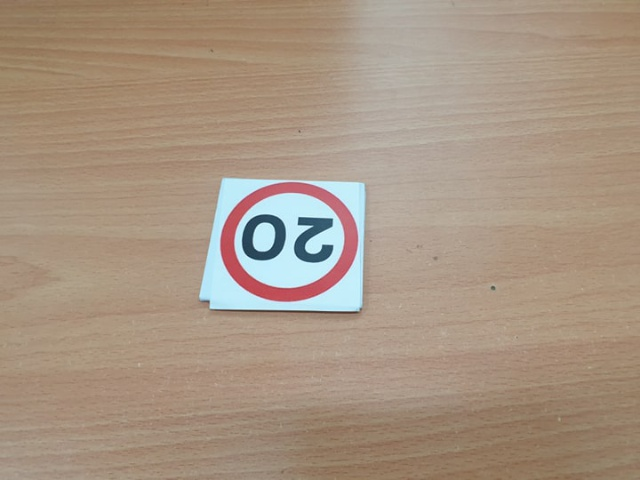Limit 20: (222, 180, 359, 305)
